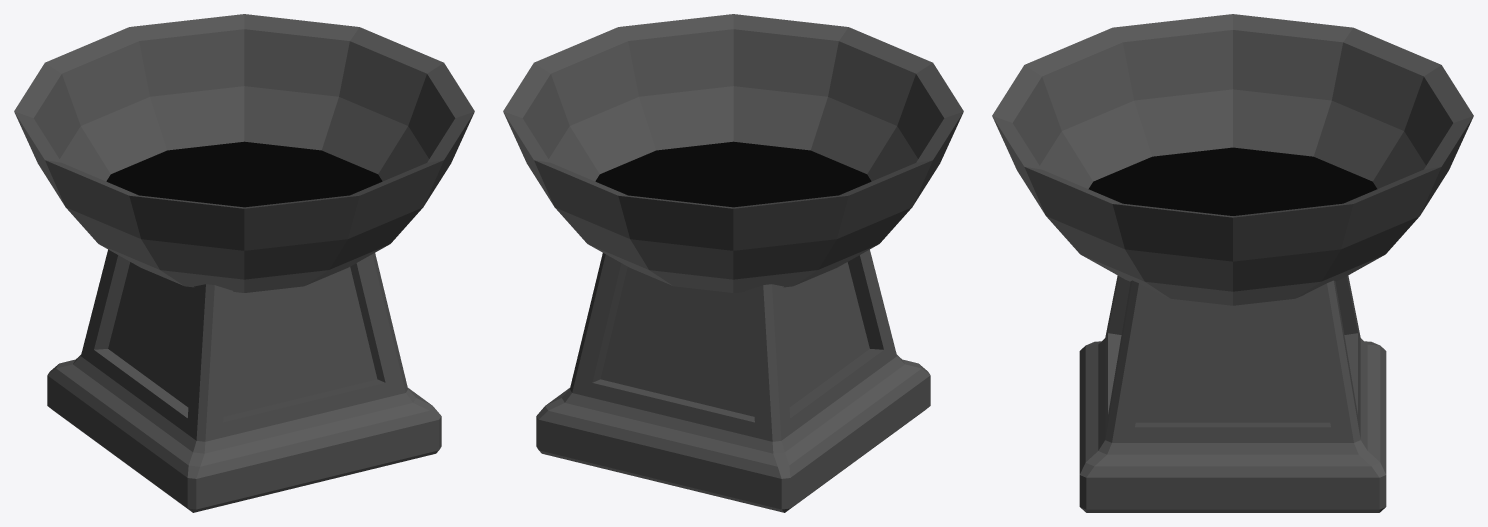
Rendered from brazier.glb.
3 renders of one model, left to right at view 1: azimuth 30°, elevation 25°; view 2: azimuth 150°, elevation 25°; view 3: azimuth 270°, elevation 25°, orthographic. The views are drawn at different scales.
Visible parts, largest first — view 1: Brazier; view 2: Brazier; view 3: Brazier.
Part boxes in pixels (x1,y1,x2,y2): Brazier: (14,14,474,512); Brazier: (503,14,963,512); Brazier: (992,14,1473,512).
Size of the model in its own units: 1.93 by 1.48 by 1.93.
Materials: 1 (1 with a texture image).
